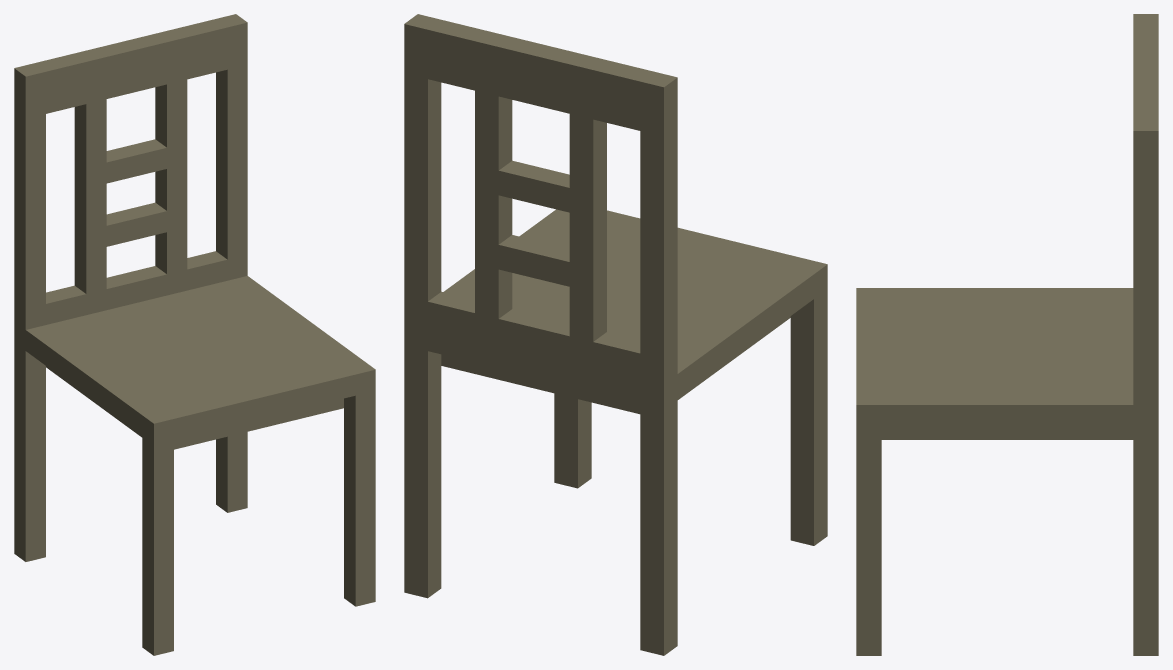
Rendered from diningChair.fbx.
3 renders of one model, left to right at view 1: azimuth 30°, elevation 25°; view 2: azimuth 150°, elevation 25°; view 3: azimuth 270°, elevation 25°, orthographic. The views are drawn at different scales.
Parts seen in each view (by area): view 1: block_default_16, block_default_18, block_default_27, block_default_17, block_default_28, block_default_26, block_default_21, block_default_20, block_default_19, block_default_22, block_default_25, block_default_29 (+2 smaller); view 2: block_default_16, block_default_18, block_default_17, block_default_26, block_default_25, block_default_27, block_default_20, block_default_21, block_default_19, block_default_22, block_default_28, block_default_24 (+2 smaller); view 3: block_default_16, block_default_25, block_default_28, block_default_19, block_default_18, block_default_29, block_default_17.
Boxes of the visible parts, x1,y1,x2,y2 form: block_default_16: (25, 276, 375, 444); block_default_18: (14, 14, 247, 118); block_default_27: (142, 436, 173, 655); block_default_17: (14, 251, 247, 350); block_default_28: (344, 391, 375, 606); block_default_26: (14, 343, 45, 561); block_default_21: (74, 99, 106, 293); block_default_20: (14, 111, 45, 308); block_default_19: (216, 65, 247, 259); block_default_22: (155, 79, 187, 274); block_default_25: (216, 432, 247, 512); block_default_29: (46, 366, 343, 449); block_default_16: (443, 209, 827, 398); block_default_18: (404, 14, 677, 136); block_default_17: (404, 291, 677, 408); block_default_26: (640, 399, 677, 655); block_default_25: (404, 345, 441, 598); block_default_27: (790, 289, 827, 545); block_default_20: (640, 127, 677, 359); block_default_21: (569, 114, 606, 341); block_default_19: (404, 73, 441, 301); block_default_22: (475, 90, 512, 318); block_default_28: (554, 393, 591, 488); block_default_24: (498, 235, 569, 286); block_default_16: (856, 288, 1133, 427); block_default_25: (1133, 427, 1158, 655); block_default_28: (856, 427, 881, 655); block_default_19: (1133, 176, 1158, 381); block_default_18: (1133, 14, 1158, 176); block_default_29: (881, 427, 1133, 439); block_default_17: (1133, 382, 1158, 427).
Size of the model in its own units: 11 by 23 by 12.
